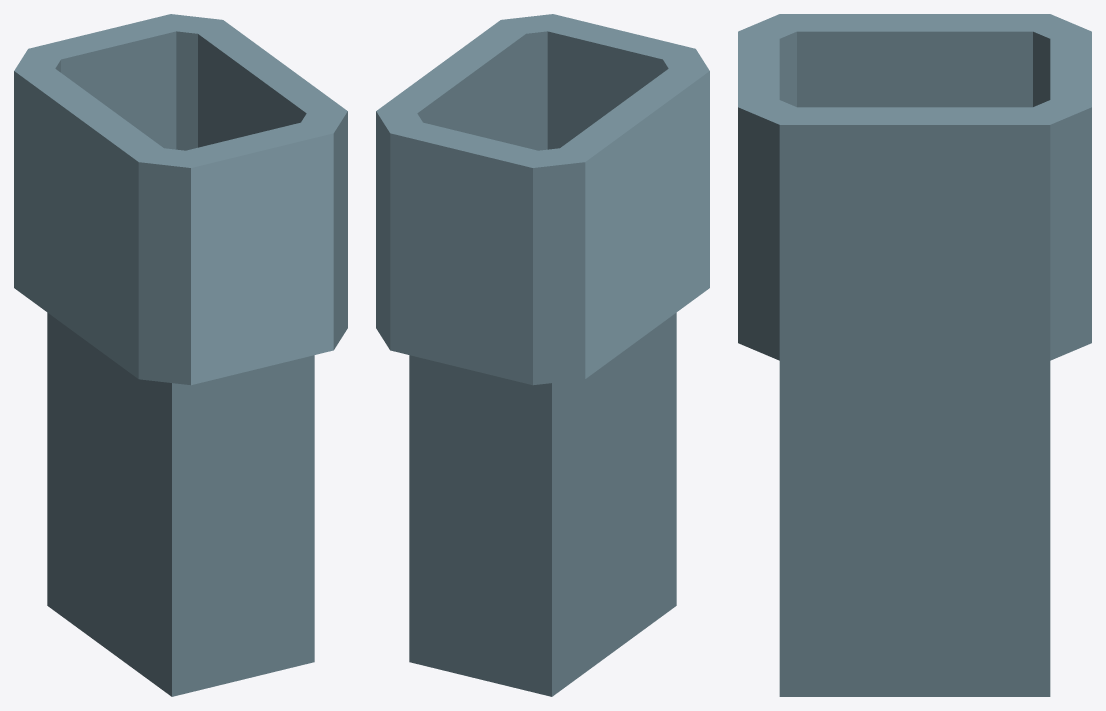
Rendered from chimneyTop.obj.
3 views of the same model, side by side, from view 1: azimuth 30°, elevation 25°; view 2: azimuth 150°, elevation 25°; view 3: azimuth 270°, elevation 25° (orthographic). The views are drawn at different scales.
Parts seen in each view (by area): view 1: chimneyTop; view 2: chimneyTop; view 3: chimneyTop.
Part boxes in pixels (left/top/right/bottom): chimneyTop: left=14, top=14, right=347, bottom=696; chimneyTop: left=376, top=14, right=709, bottom=696; chimneyTop: left=738, top=14, right=1091, bottom=696.
Size of the model in its own units: 0.2519 by 0.625 by 0.34.
